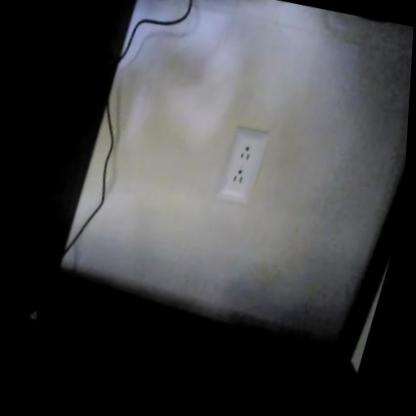OUTLET: (214, 127, 269, 207)
